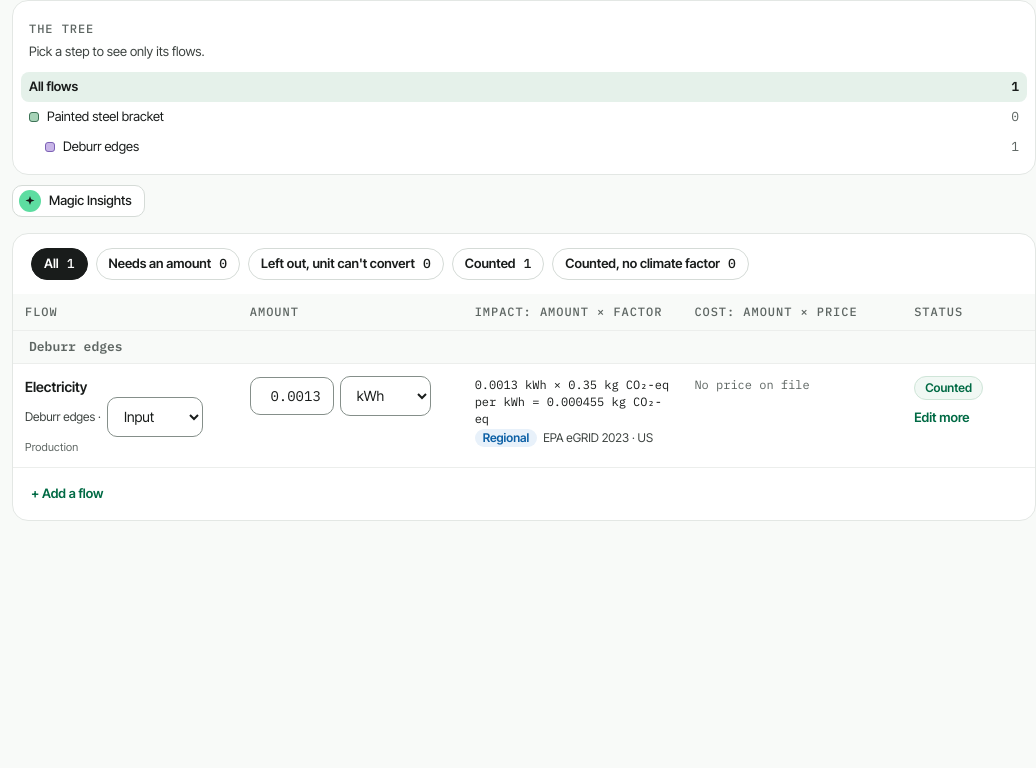
Scenario: the amount box › A1 a unit change converts the amount in the box, and Save sends the converted amount with the unit
Select "Wh" in the dropdown named "Unit for Electricity": {"x": 385, "y": 396} [340,376,431,416]
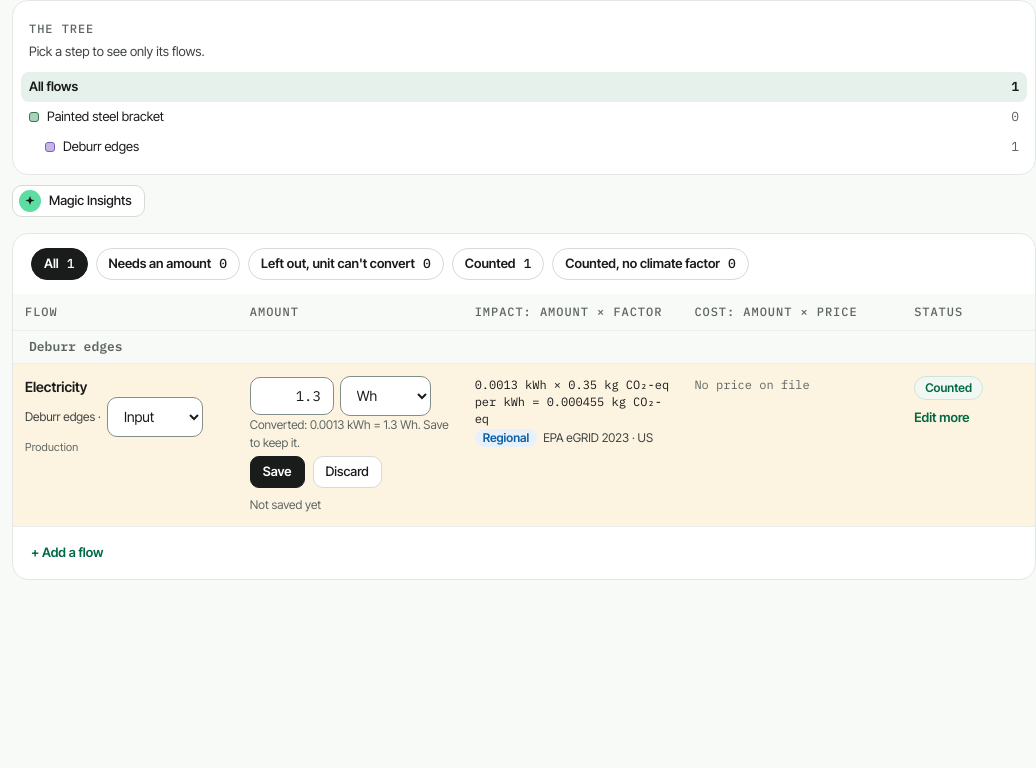
Now the field named "Electricity, amount in Wh" holds "1.3", box [250,376,334,414]
Now the text "Converted: 0.0013 kWh = 1.3 Wh. Save to keep it." is shown, box [250,416,451,452]
Click the button with aria-label "Save Electricity on Deburr edges": {"x": 277, "y": 472} [250,456,304,488]
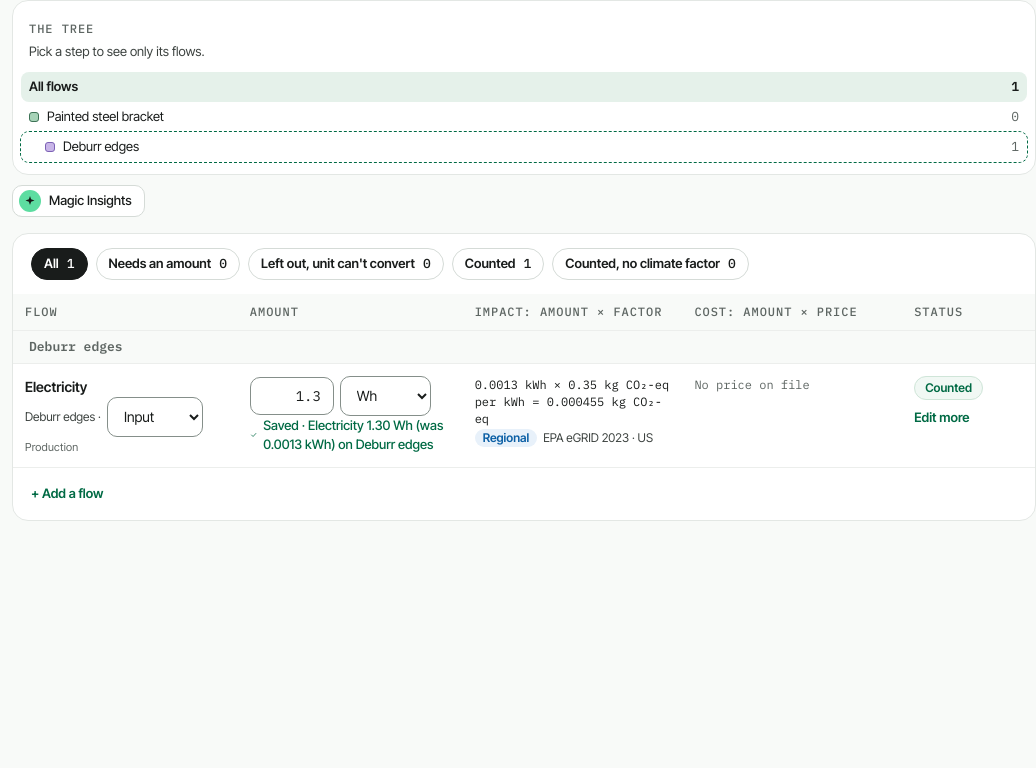
Now the text "Saved · Electricity 1.30 Wh (was 0.0013 kWh) on Deburr edges" is shown, box [263,416,451,454]
